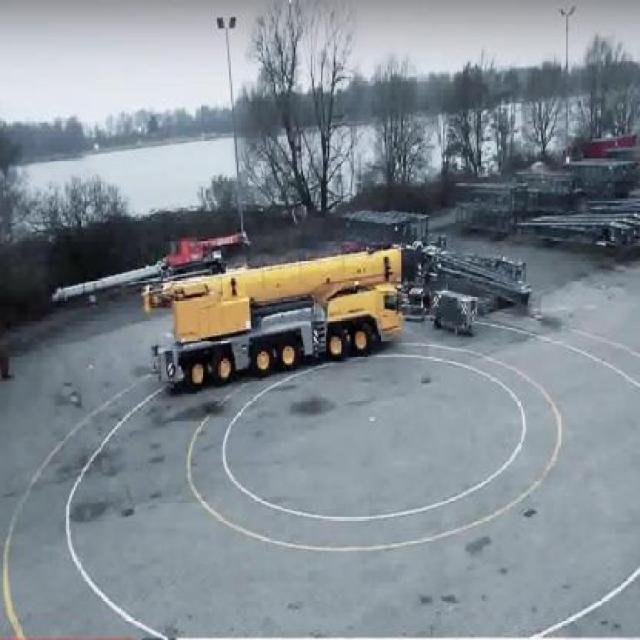Mobile Crane: (144, 241, 428, 390)
